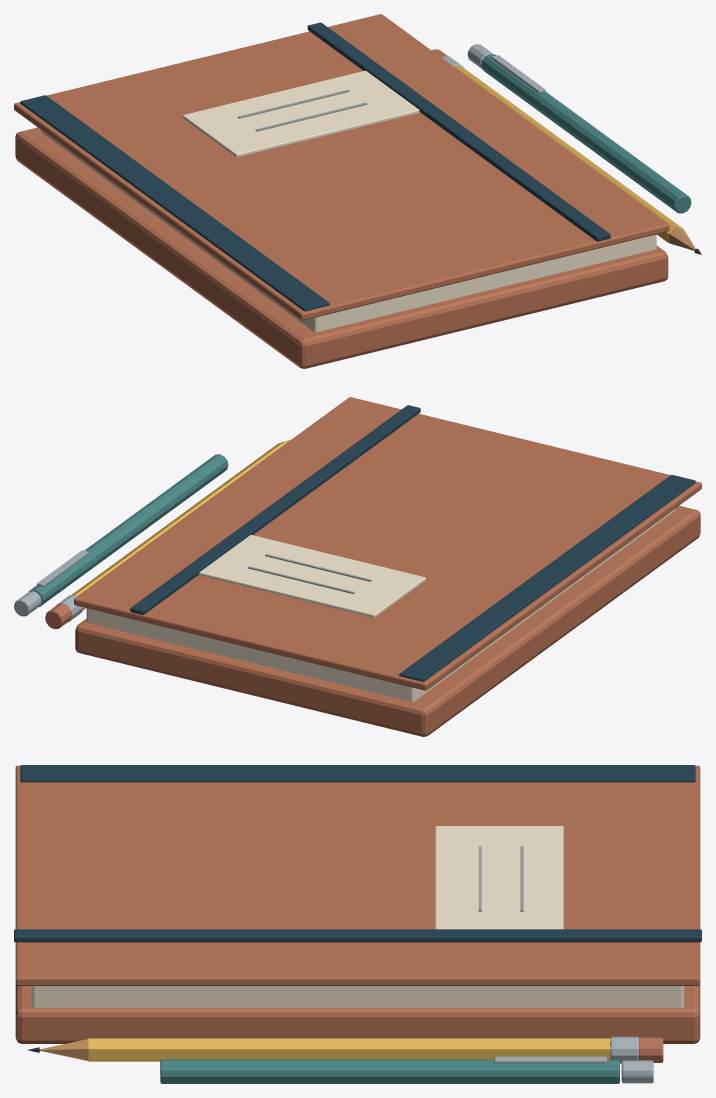
Rendered from stationery_notebook.glb.
3 renders of one model, top to bottom at view 1: azimuth 30°, elevation 25°; view 2: azimuth 150°, elevation 25°; view 3: azimuth 270°, elevation 25°, orthographic. The views are drawn at different scales.
Parts seen in each view (by area): view 1: MESH_stationery_notebook; view 2: MESH_stationery_notebook; view 3: MESH_stationery_notebook.
Boxes of the visible parts, x1,y1,x2,y2 form: MESH_stationery_notebook: (14,14,701,368); MESH_stationery_notebook: (14,397,701,736); MESH_stationery_notebook: (14,765,701,1083).
Bounding box in the file's own units: 0.1923 × 0.0257 × 0.214.
